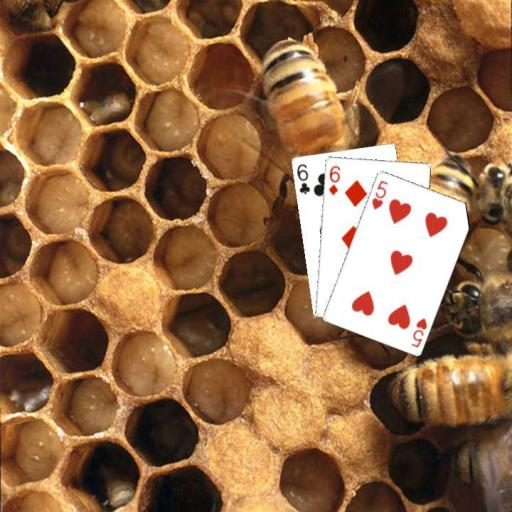5H: (368, 177, 389, 211), (408, 315, 428, 349)
6C: (294, 160, 312, 196)
6D: (326, 162, 341, 196)
